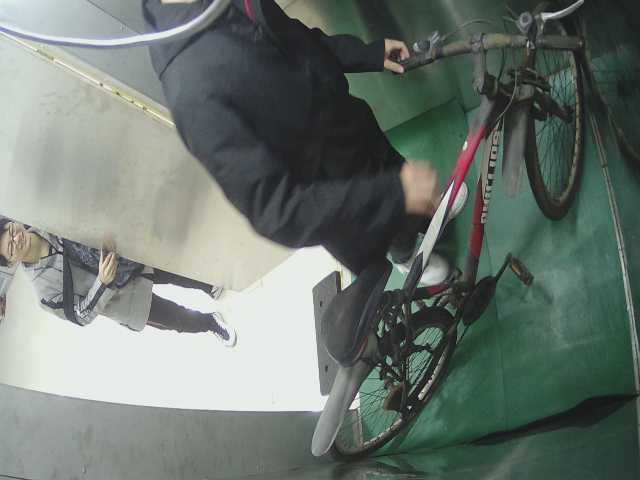bicycle: (302, 5, 586, 468)
person: (153, 1, 474, 287), (1, 219, 243, 354)
